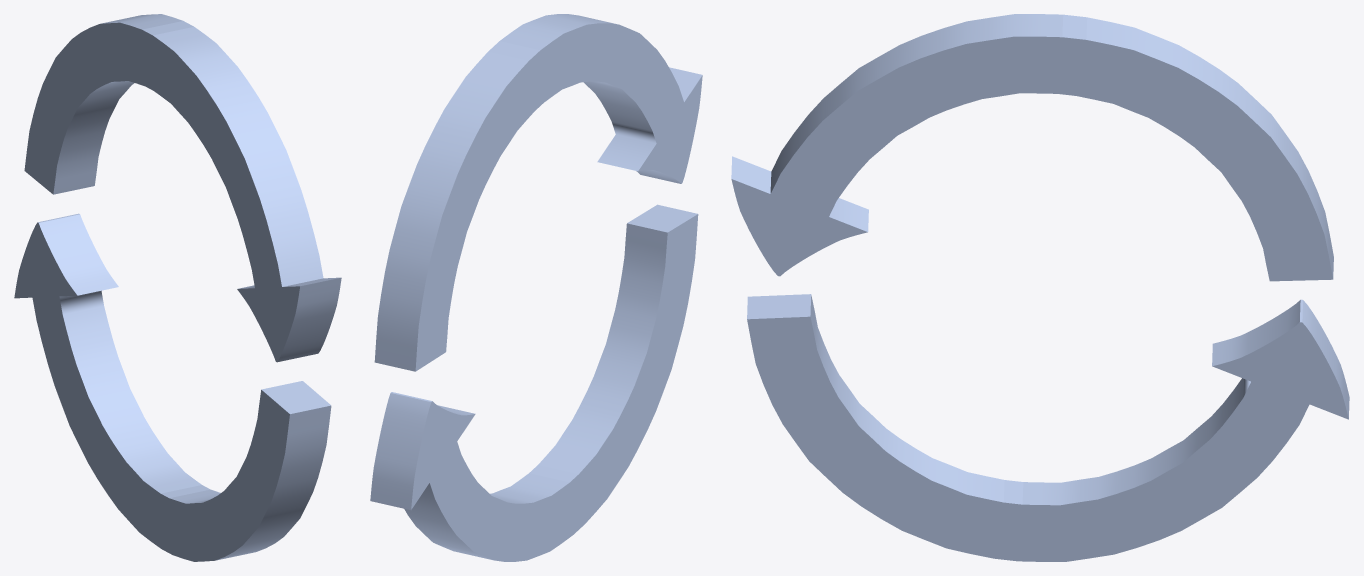
File: btn1_.glb
3 views of the same model, side by side, from view 1: azimuth 30°, elevation 25°; view 2: azimuth 150°, elevation 25°; view 3: azimuth 270°, elevation 25° (orthographic). The views are drawn at different scales.
Parts seen in each view (by area): view 1: Cube.004; view 2: Cube.004; view 3: Cube.004.
Part boxes in pixels (x1=…): Cube.004: x1=14, y1=14, x2=341, y2=561; Cube.004: x1=370, y1=14, x2=702, y2=561; Cube.004: x1=731, y1=14, x2=1349, y2=561.
Bounding box in the file's own units: 0.0808 × 0.7008 × 0.7373.
